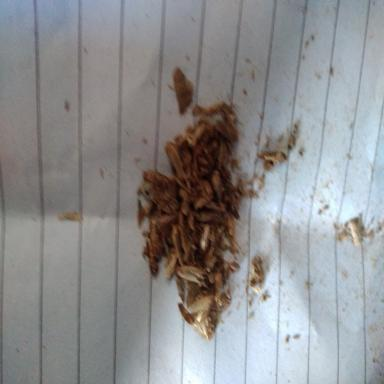pbw: (142, 181, 176, 213), (178, 210, 198, 264), (178, 302, 206, 340), (162, 139, 187, 180), (172, 63, 192, 112), (185, 288, 215, 315), (141, 168, 172, 194), (182, 202, 216, 225), (168, 221, 184, 267), (190, 309, 212, 341), (176, 266, 206, 287), (194, 177, 213, 209), (248, 255, 264, 292), (184, 121, 208, 145), (213, 118, 238, 141), (149, 215, 160, 263), (259, 148, 288, 166), (210, 167, 222, 202), (198, 223, 210, 251), (163, 254, 176, 278)
